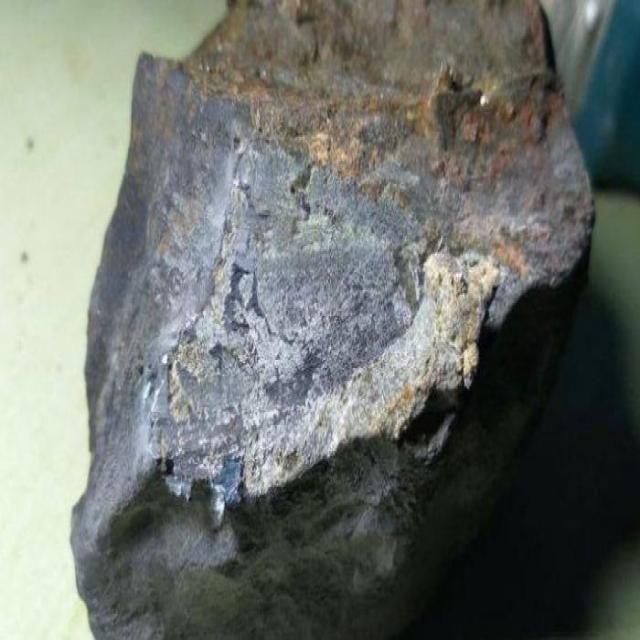Pecahan Agregat: (82, 10, 628, 640)
